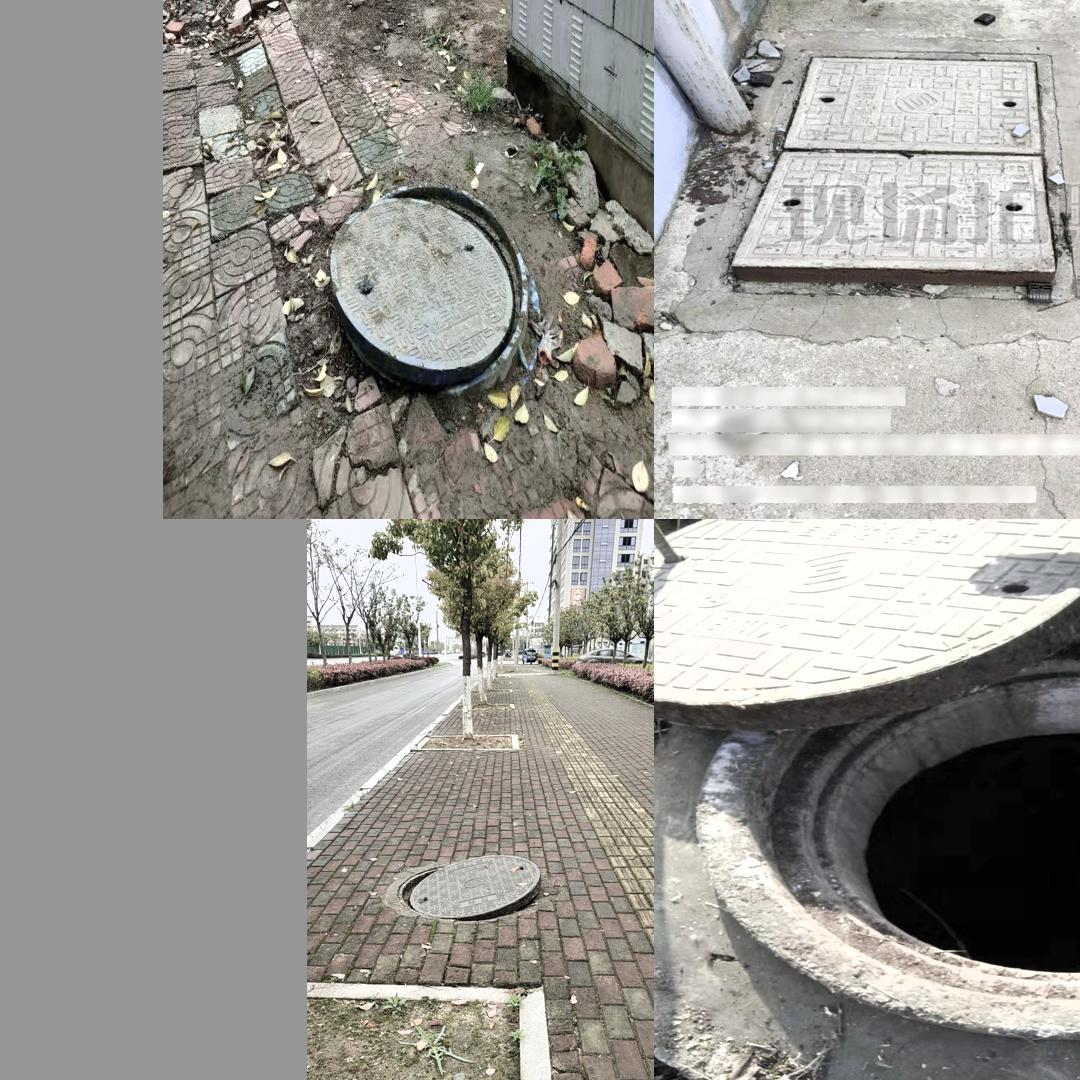uncovered: (659, 519, 1080, 1035), (714, 46, 1076, 300), (330, 183, 523, 376), (383, 855, 544, 923)
